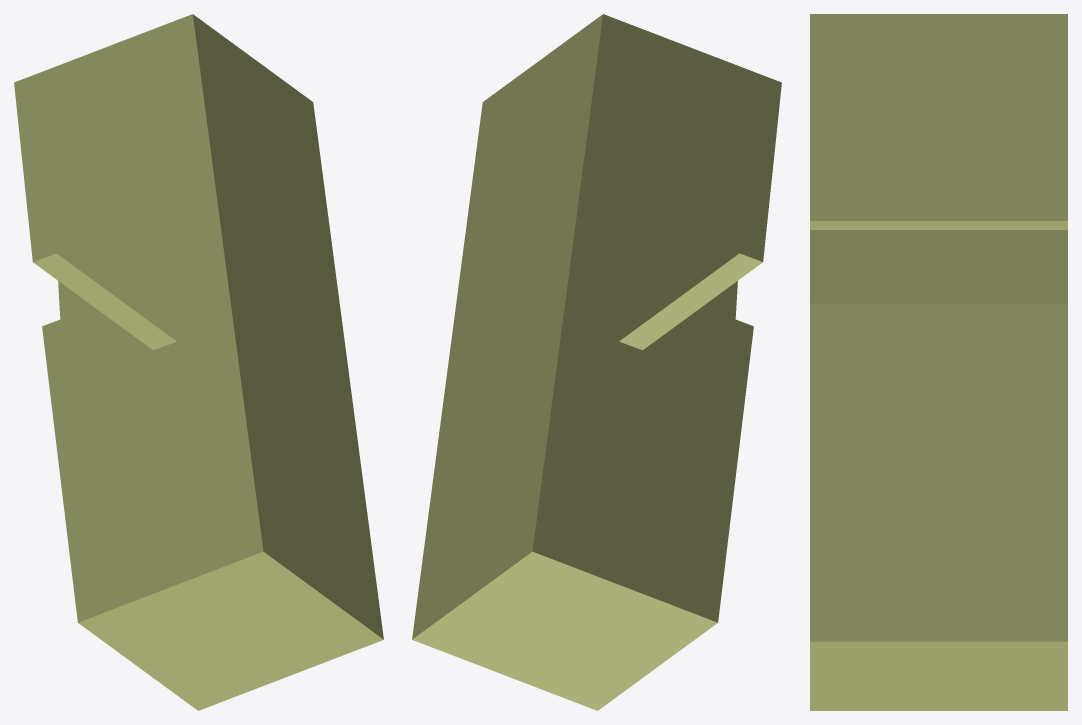
3 views of the same model, side by side, from view 1: azimuth 30°, elevation 25°; view 2: azimuth 150°, elevation 25°; view 3: azimuth 270°, elevation 25° (orthographic). The views are drawn at different scales.
Visible parts, largest first — view 1: 0_1_3_2_1_2_2_2_1; view 2: 0_1_3_2_1_2_2_2_1; view 3: 0_1_3_2_1_2_2_2_1.
Boxes of the visible parts, <box> form: 0_1_3_2_1_2_2_2_1: <box>14,14,383,710</box>; 0_1_3_2_1_2_2_2_1: <box>412,14,781,710</box>; 0_1_3_2_1_2_2_2_1: <box>810,14,1067,710</box>.
Bounding box in the file's own units: 10.76 × 23.94 × 9.
